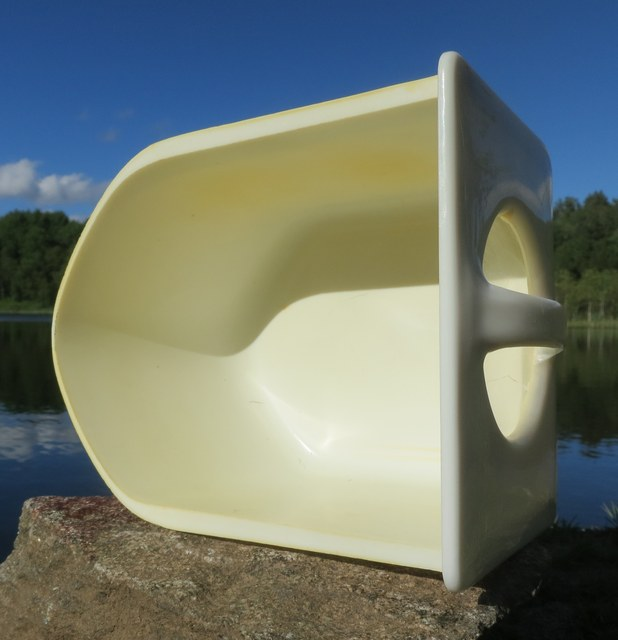Tupperware Fridge Storage Box: (31, 32, 587, 608)
